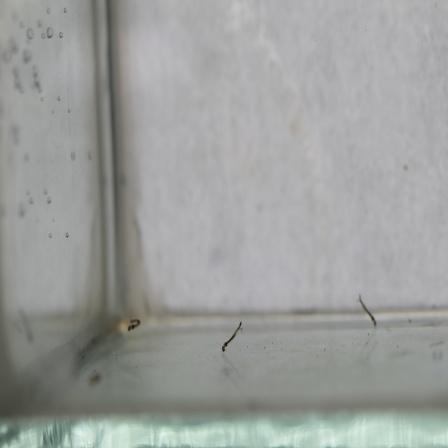Jentik-Nyamuk: (216, 319, 247, 355), (123, 316, 144, 339)
